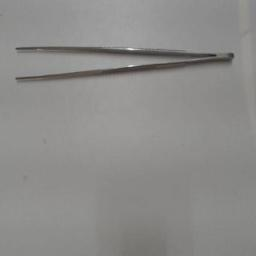DeBakey Dissector: (6, 36, 246, 92)
